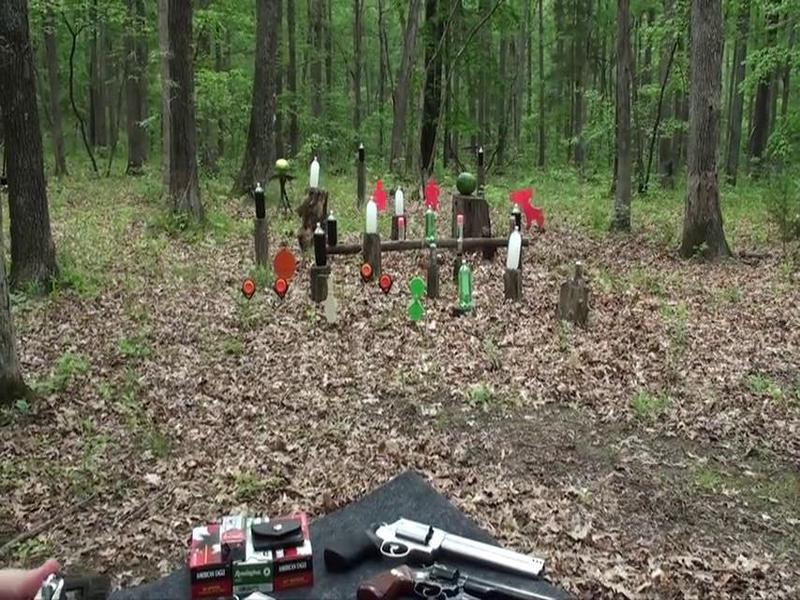Revolver: (327, 509, 578, 599)
